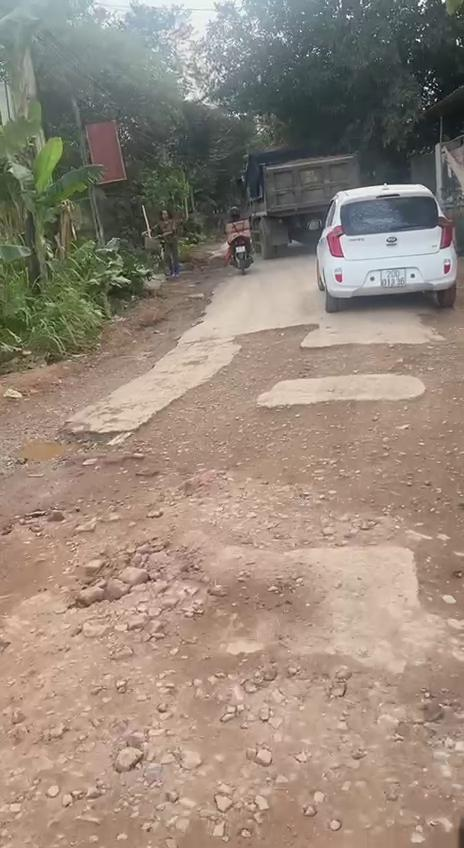pothole: (0, 408, 464, 848), (107, 317, 464, 611), (6, 424, 104, 478)
